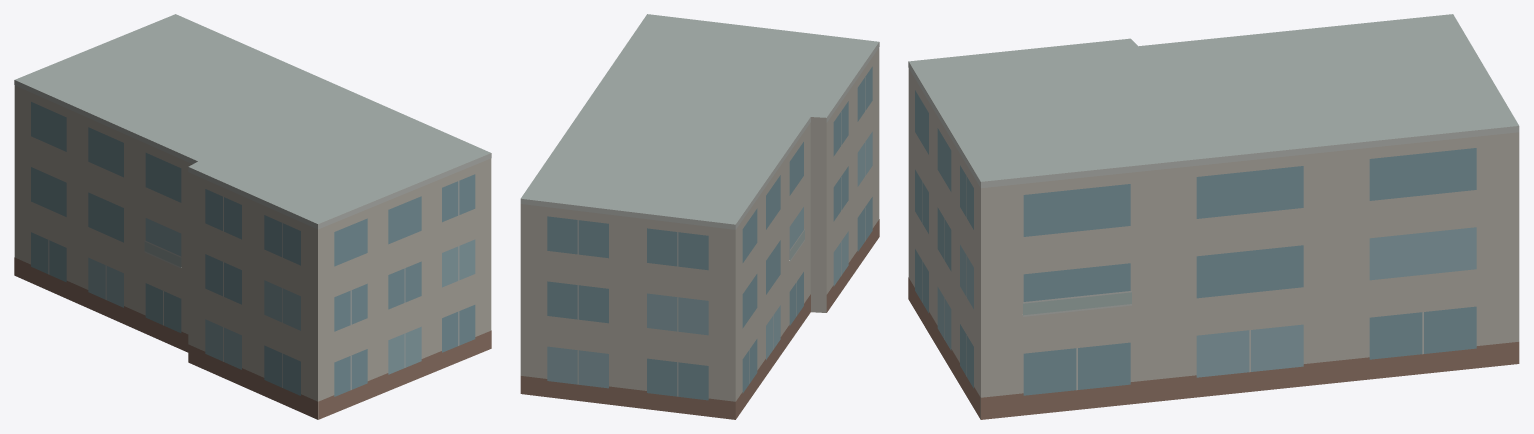
Rendered from survey-upis-33019325.glb.
3 renders of one model, left to right at view 1: azimuth 30°, elevation 25°; view 2: azimuth 150°, elevation 25°; view 3: azimuth 270°, elevation 25°, orthographic. The views are drawn at different scales.
Parts seen in each view (by area): view 1: survey-upis-33019325.tmp; view 2: survey-upis-33019325.tmp; view 3: survey-upis-33019325.tmp.
Part boxes in pixels (left/top/right/bottom): survey-upis-33019325.tmp: left=14, top=14, right=491, bottom=419; survey-upis-33019325.tmp: left=520, top=14, right=879, bottom=419; survey-upis-33019325.tmp: left=908, top=14, right=1519, bottom=419.
Size of the model in its own units: 13.85 by 9.15 by 21.29.
